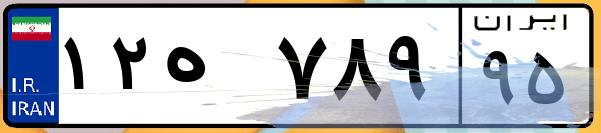1: (57, 26, 110, 100)
2: (110, 28, 158, 98)
5: (525, 38, 570, 115)
7: (270, 28, 330, 110)
8: (330, 28, 385, 110)
9: (385, 28, 445, 110), (475, 38, 525, 113)
ه: (158, 20, 270, 120)
